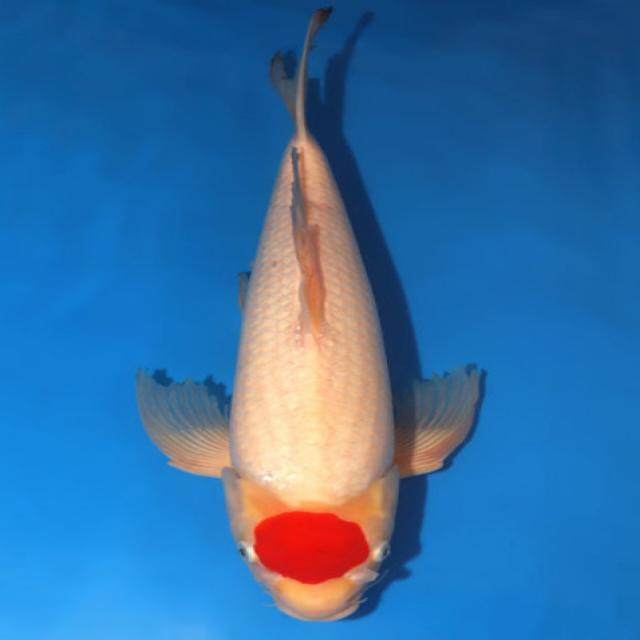Kohaku: (132, 5, 488, 622)
